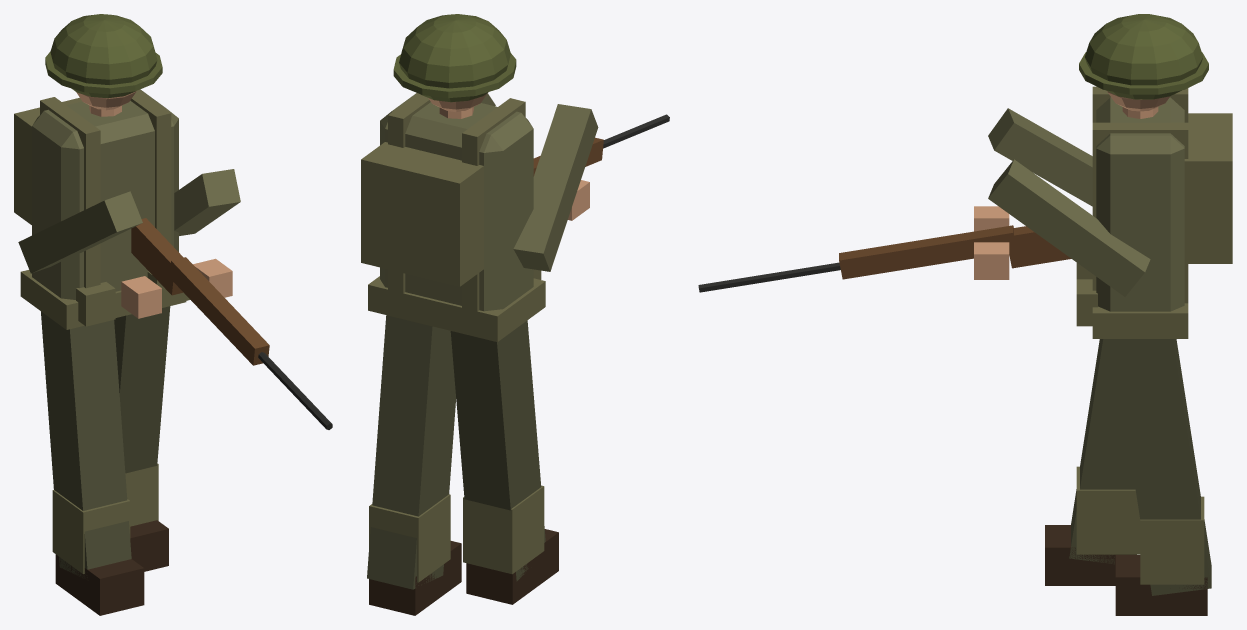
Rendered from soldado_simples.glb.
The picture shows the model from 3 angles, left to right: view 1: azimuth 30°, elevation 25°; view 2: azimuth 150°, elevation 25°; view 3: azimuth 270°, elevation 25°; orthographic projection. The views are drawn at different scales.
Visible parts, largest first — view 1: Soldado; view 2: Soldado; view 3: Soldado.
Boxes of the visible parts, left/top/right/bottom form: Soldado: left=14, top=14, right=332, bottom=615; Soldado: left=361, top=14, right=669, bottom=615; Soldado: left=698, top=14, right=1232, bottom=615.
Size of the model in its own units: 0.5767 by 1.78 by 1.51.
